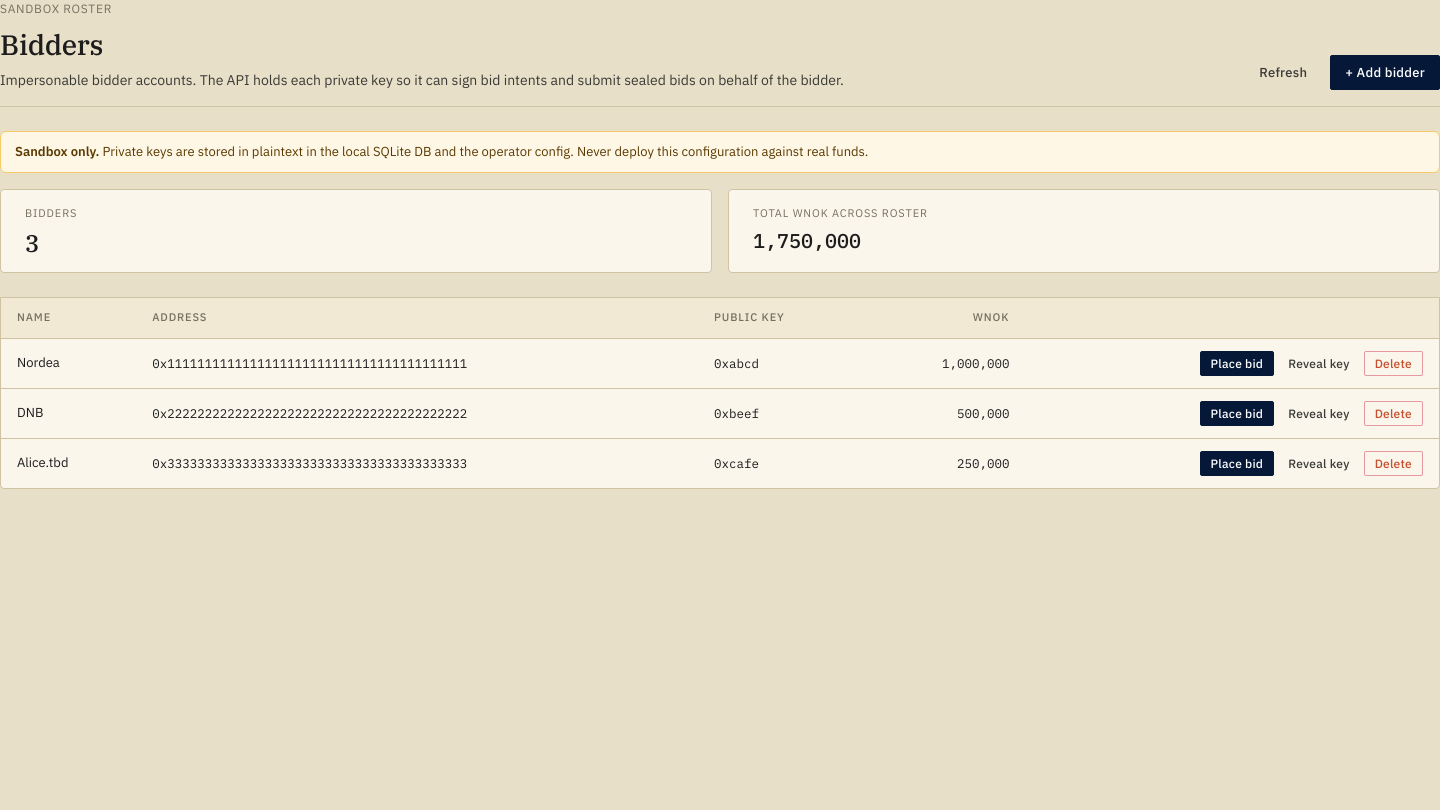
it: BiddersPage › opens the PlaceBid modal when "Place bid" is clicked on a row
Check: the text "Nordea" is shown, box [1,338,136,388]
Click the button "Place bid" in the row of "Nordea": (1237, 364) [1200,351,1274,376]
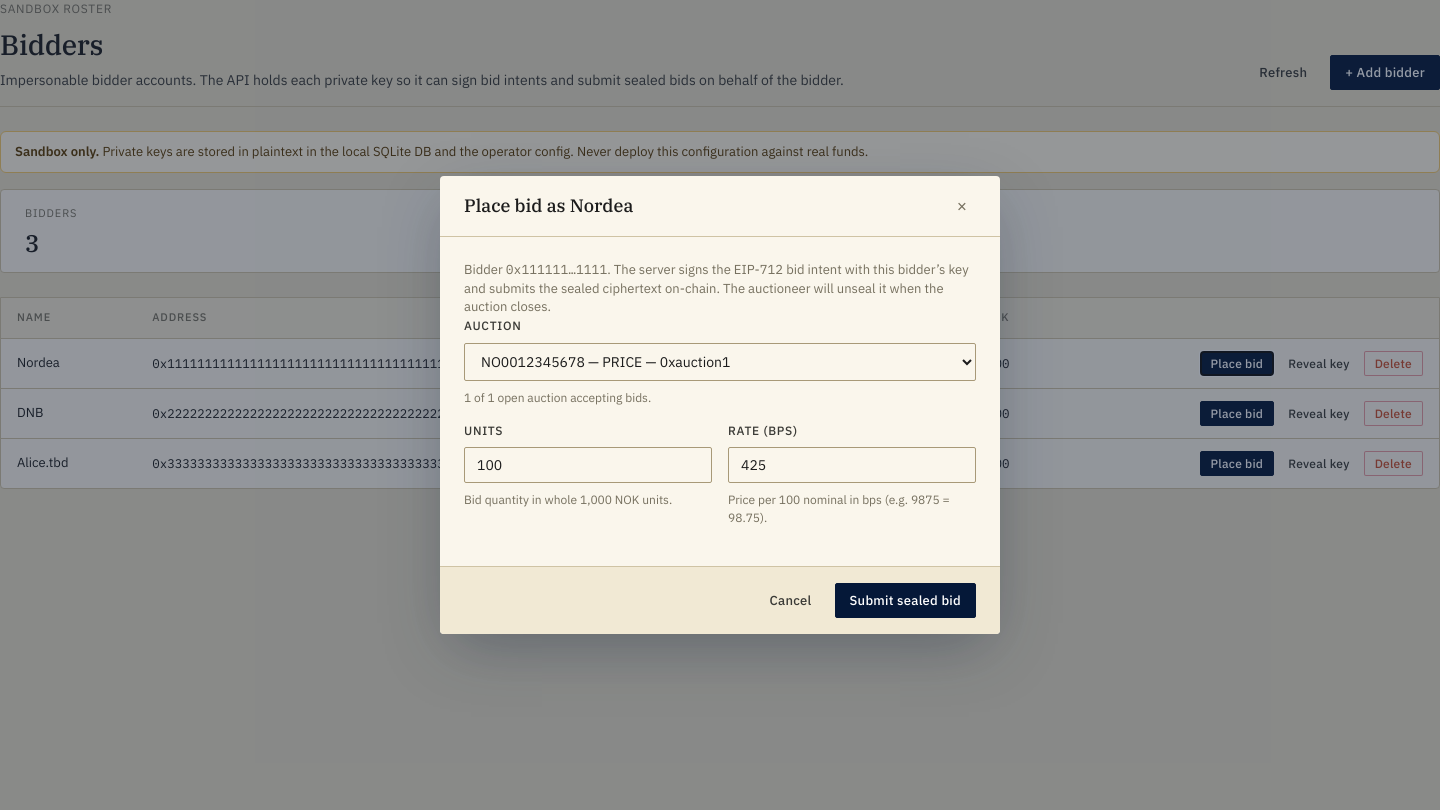
Check: the heading "Place bid as Nordea" is shown, box [464,193,633,219]
